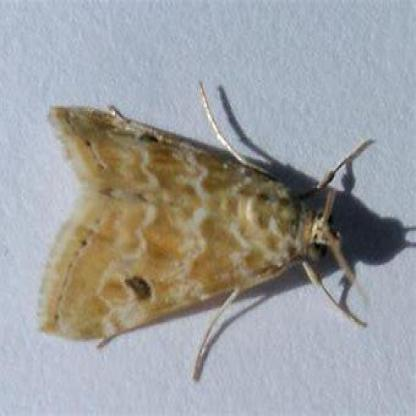Hellula undalis: (29, 76, 375, 382)
